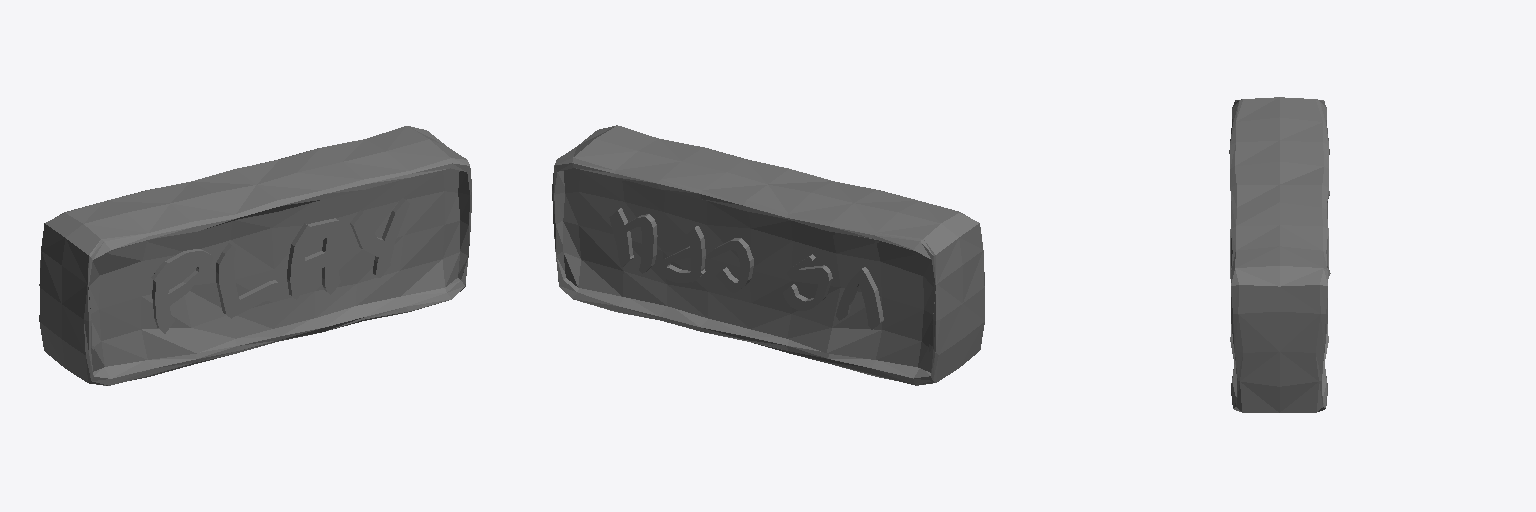
File: play_button_obj.obj
3 views of the same model, side by side, from view 1: azimuth 30°, elevation 25°; view 2: azimuth 150°, elevation 25°; view 3: azimuth 270°, elevation 25° (orthographic).
Visible parts, largest first — view 1: play_button_obj:Default play_button_obj:plac_button_face play_bu, play_button_obj:Default play_button_obj:play_button_border polyS, play_button_obj:play polySurface21; view 2: play_button_obj:Default play_button_obj:play_button_border polyS, polySurface1; view 3: play_button_obj:Default play_button_obj:play_button_border polyS.
Part boxes in pixels (bbox=[...]): play_button_obj:Default play_button_obj:plac_button_face play_bu: bbox=[89, 169, 459, 371]; play_button_obj:Default play_button_obj:play_button_border polyS: bbox=[39, 126, 471, 385]; play_button_obj:play polySurface21: bbox=[151, 198, 409, 333]; play_button_obj:Default play_button_obj:play_button_border polyS: bbox=[552, 125, 984, 385]; polySurface1: bbox=[609, 208, 883, 329]; play_button_obj:Default play_button_obj:play_button_border polyS: bbox=[1229, 97, 1330, 412].
Bounding box in the file's own units: 20.23 × 7.46 × 4.56.